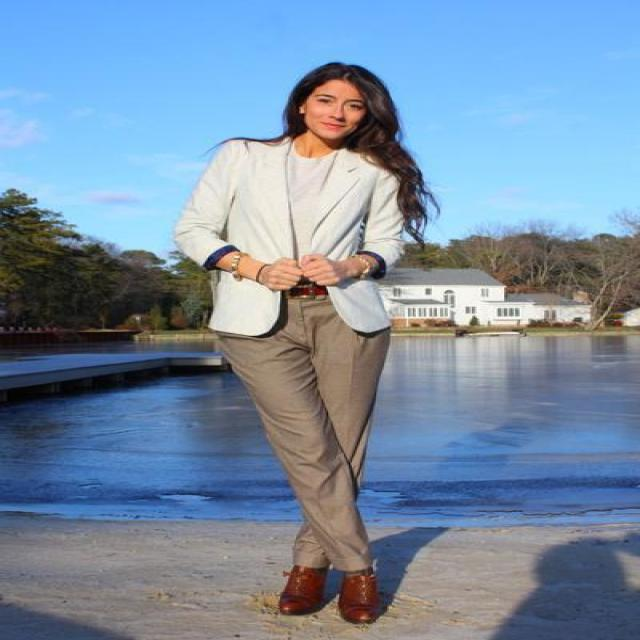jacket: (173, 141, 416, 334)
pants: (230, 289, 420, 571)
shirt: (278, 170, 325, 261)
shoe: (278, 557, 391, 623)
